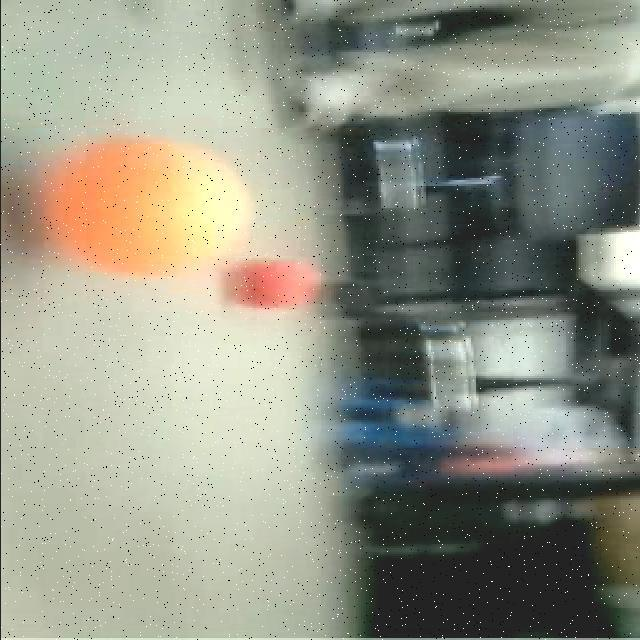ping-pong-ball: (38, 124, 256, 282), (236, 256, 320, 316)
